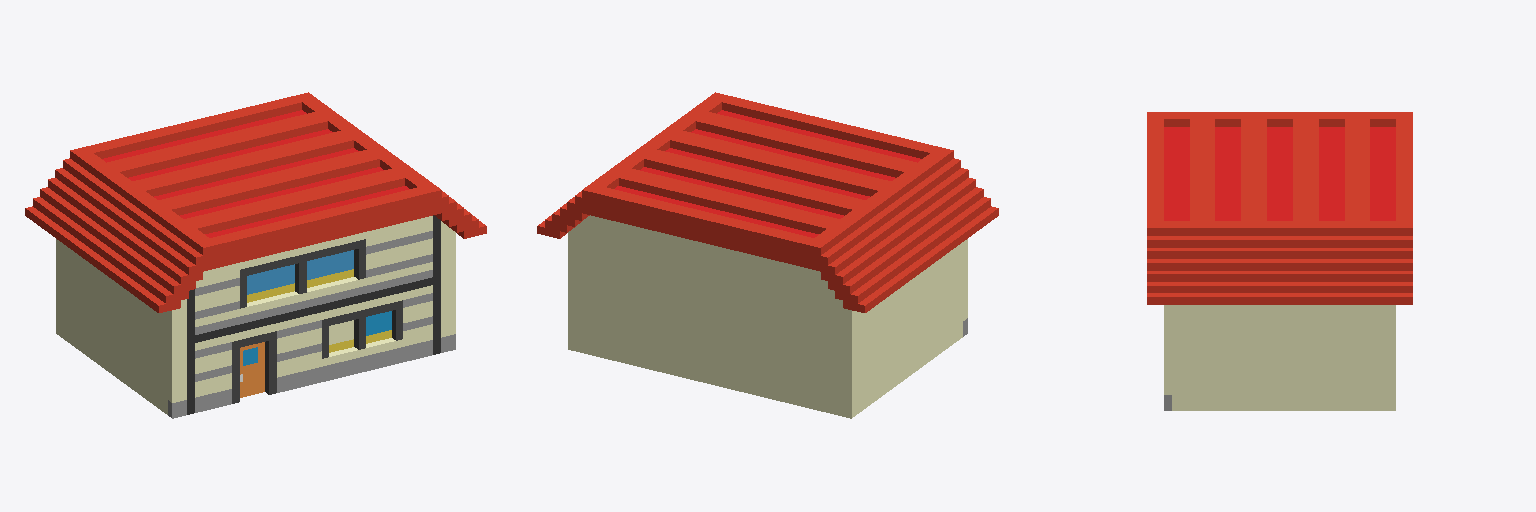
The picture shows the model from 3 angles: view 1: azimuth 30°, elevation 25°; view 2: azimuth 150°, elevation 25°; view 3: azimuth 270°, elevation 25°; orthographic projection.
Visible parts, largest first — view 1: CasaPoke; view 2: CasaPoke; view 3: CasaPoke.
Boxes of the visible parts, x1,y1,x2,y2 form: CasaPoke: [25, 92, 486, 418]; CasaPoke: [537, 92, 998, 418]; CasaPoke: [1147, 112, 1412, 410].
Bounding box in the file's own units: 4.4 × 2.2 × 3.1.
Materials: 1 (1 with a texture image).